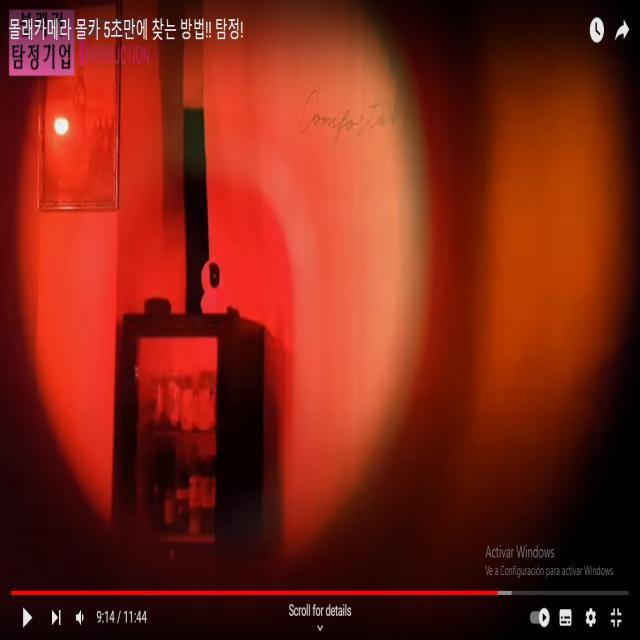hidden camera: (209, 265, 220, 282)
